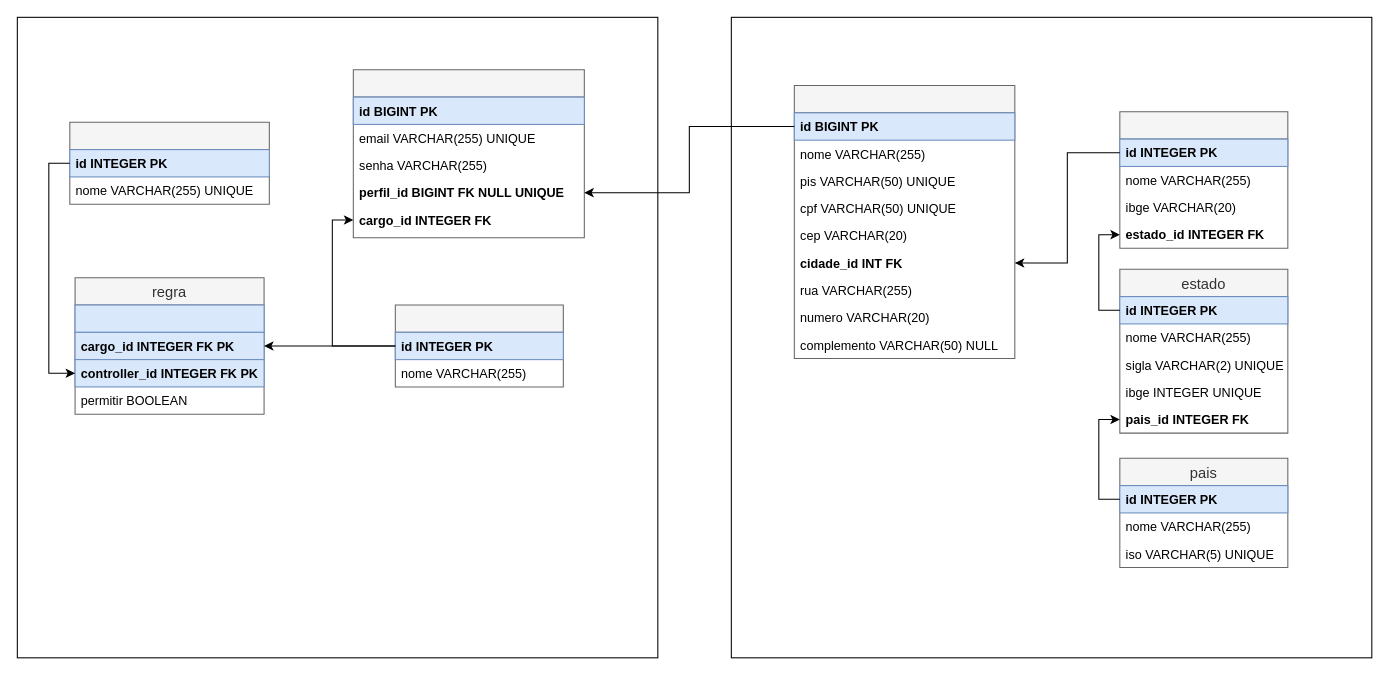
This 1389x675 diagram has some shape labels left out. Here are the shapes that lost their labels. From the top down, the box of each, then its label:
(69, 121, 269, 204): controller
(352, 69, 584, 238): usuario
(1119, 111, 1288, 248): cidade
(793, 85, 1015, 359): perfil
(74, 304, 264, 332): acao_id VARCHAR(20) PK
(394, 304, 563, 387): cargo
